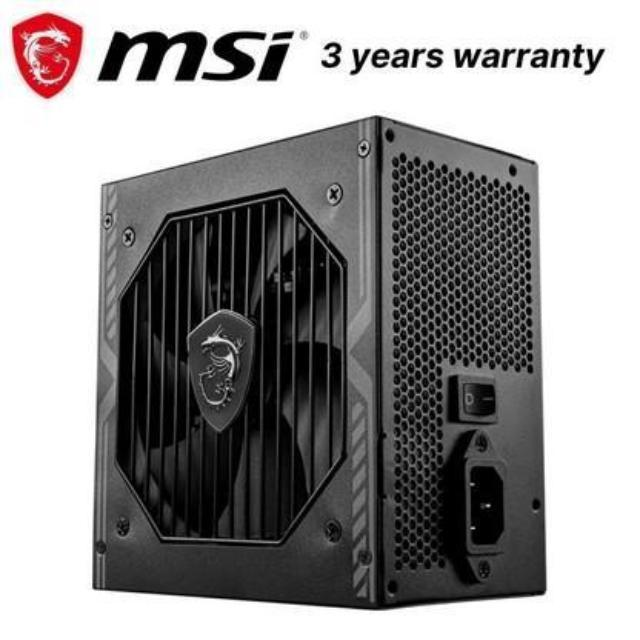PSU: (82, 97, 574, 620)
